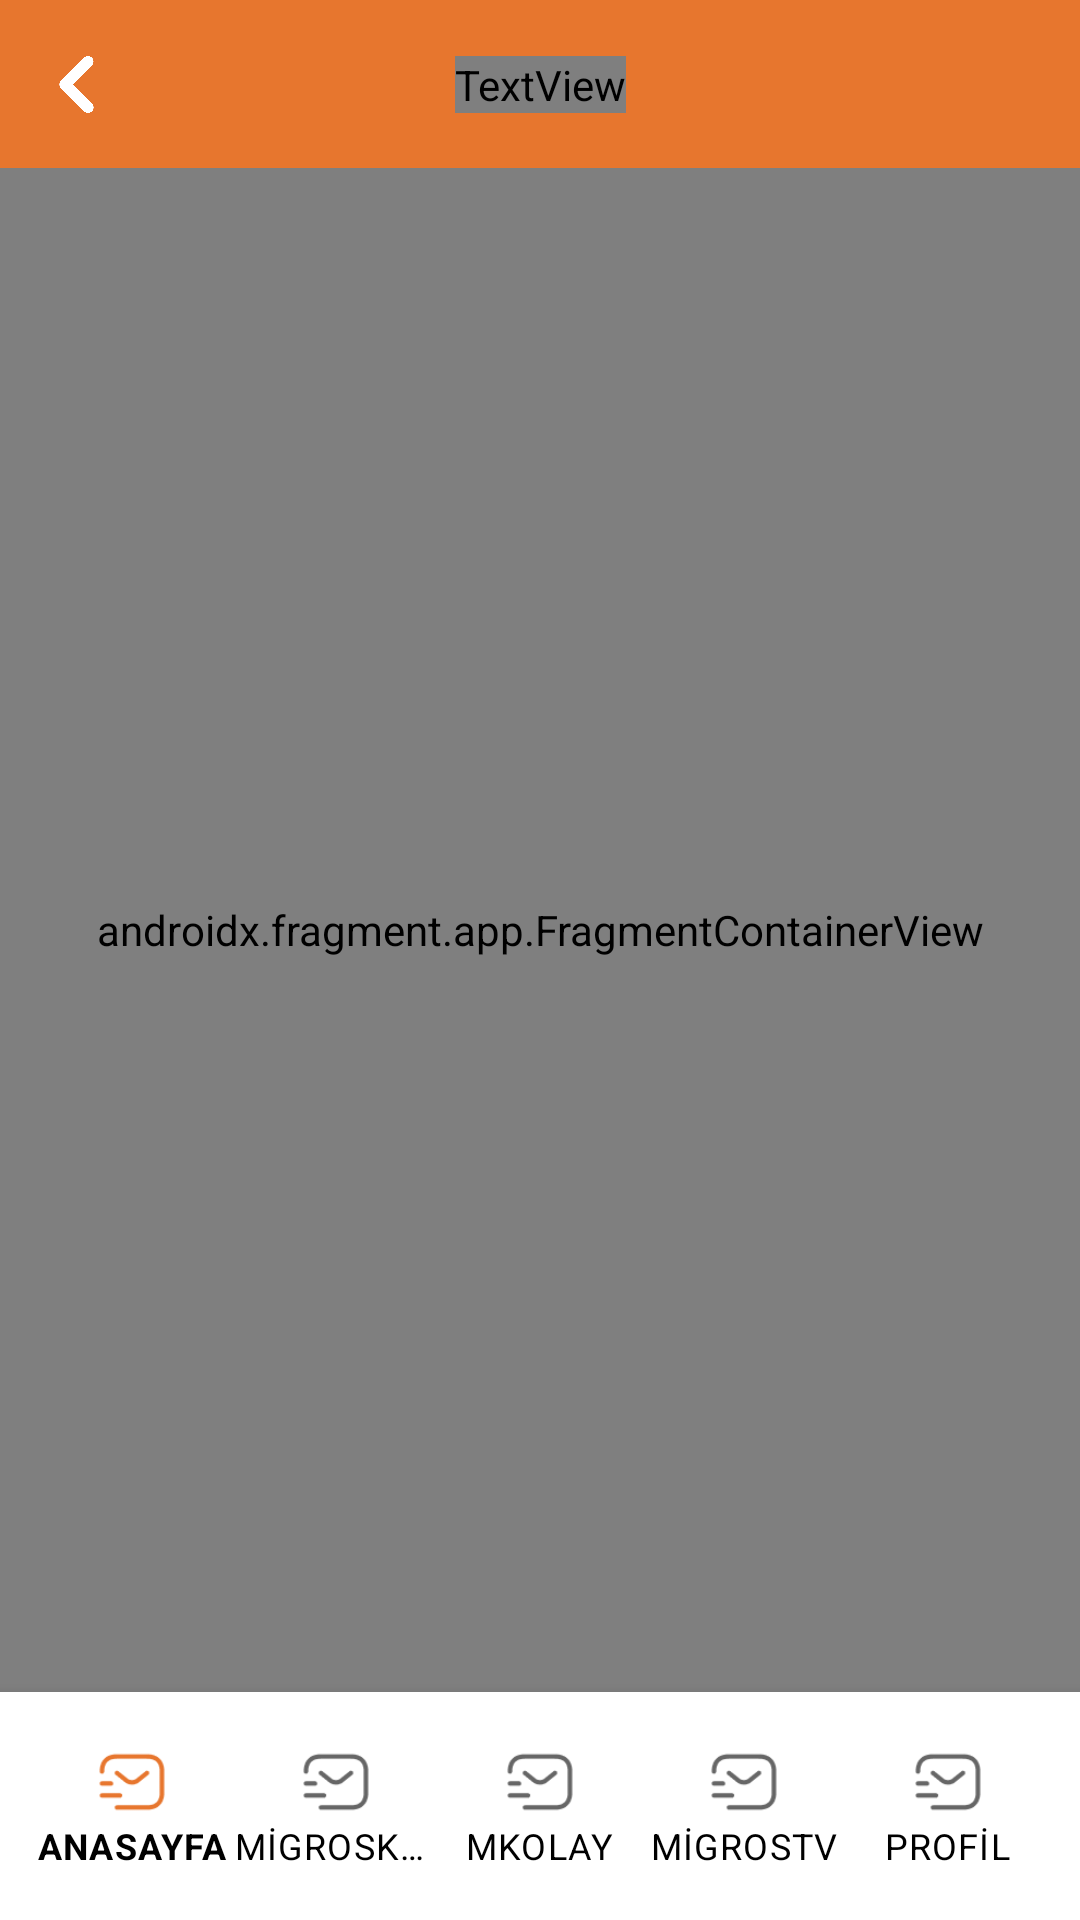

Screen size 1080px x 1920px. Icon name, then its center in pixels as point (x, y):
previous: point (76, 84)
